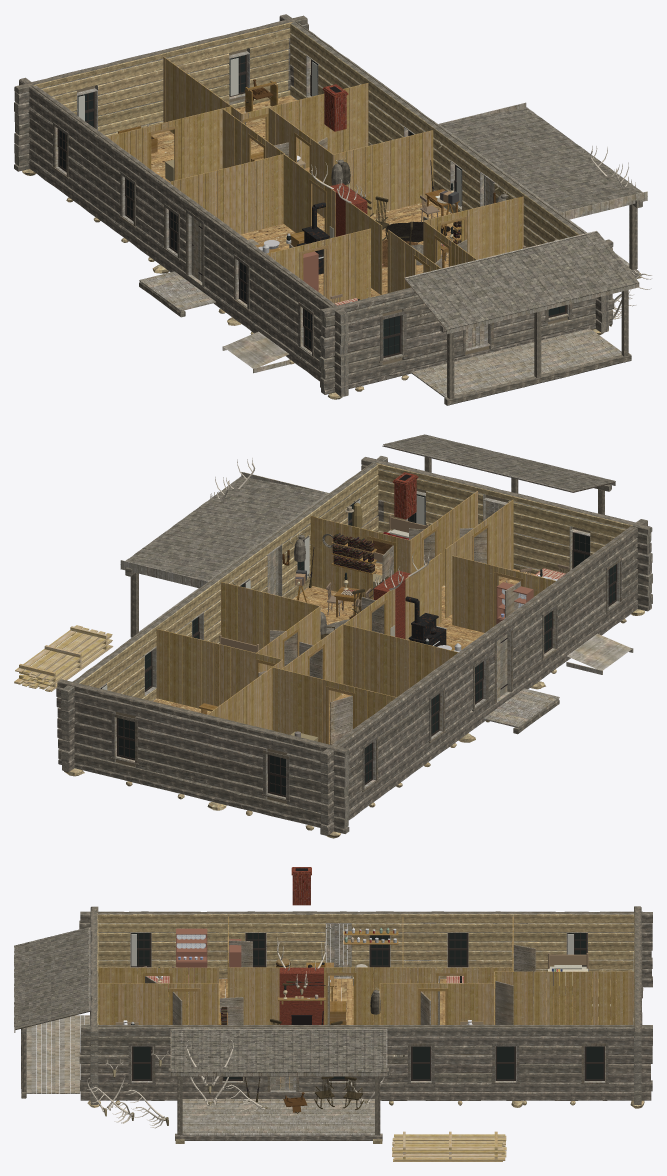
File: elkhorn_house_open.glb
3 views of the same model, one above another, from view 1: azimuth 30°, elevation 25°; view 2: azimuth 150°, elevation 25°; view 3: azimuth 270°, elevation 25° (orthographic). The views are drawn at different scales.
Parts seen in each view (by area): view 1: house_log, interior_pine, house_shingle, house_ilog, house_deck, house_board, interior_floor, house_trim, house_glass, house_door, house_post, house_sash (+9 smaller); view 2: house_log, interior_pine, house_ilog, house_shingle, house_board, interior_door, house_glass, props_lumber, house_trim, house_door, interior_floor, house_sash (+10 smaller); view 3: house_log, interior_pine, house_ilog, house_shingle, house_deck, house_glass, interior_door, props_lumber, house_board, house_sash, interior_brick, interior_paint (+9 smaller).
Part boxes in pixels (box(x1,y1,x2,y2)): house_log: box(14, 14, 642, 405); interior_pine: box(107, 56, 523, 302); house_shingle: box(405, 107, 642, 329); house_ilog: box(34, 22, 579, 246); house_deck: box(139, 219, 636, 397); house_board: box(55, 51, 647, 373); interior_floor: box(151, 95, 460, 297); house_trim: box(52, 122, 572, 362); house_glass: box(59, 55, 564, 356); house_door: box(191, 176, 494, 368); house_post: box(447, 204, 637, 399); house_sash: box(57, 54, 566, 358); house_log: box(56, 456, 652, 834); interior_pine: box(156, 491, 555, 744); house_ilog: box(79, 463, 632, 700); house_shingle: box(125, 434, 615, 581); house_board: box(99, 439, 633, 799); interior_door: box(258, 528, 520, 744); house_glass: box(118, 494, 615, 795); props_lumber: box(14, 625, 113, 691); house_trim: box(110, 557, 622, 801); house_door: box(268, 501, 631, 698); interior_floor: box(153, 562, 535, 744); house_sash: box(101, 502, 617, 797); house_log: box(21, 906, 652, 1140); interior_pine: box(98, 916, 633, 1024); house_ilog: box(97, 913, 634, 1025); house_shingle: box(14, 927, 386, 1072); house_deck: box(26, 965, 379, 1135); house_glass: box(132, 933, 603, 1079); interior_door: box(145, 940, 535, 1024); props_lumber: box(392, 1131, 506, 1161); house_board: box(14, 923, 634, 1092); house_sash: box(131, 933, 604, 1080); interior_brick: box(279, 967, 323, 1024); interior_paint: box(115, 928, 588, 1024).
Bounding box in the file's own units: 14.84 × 6.48 × 21.2.
38 materials, 38 textured.
